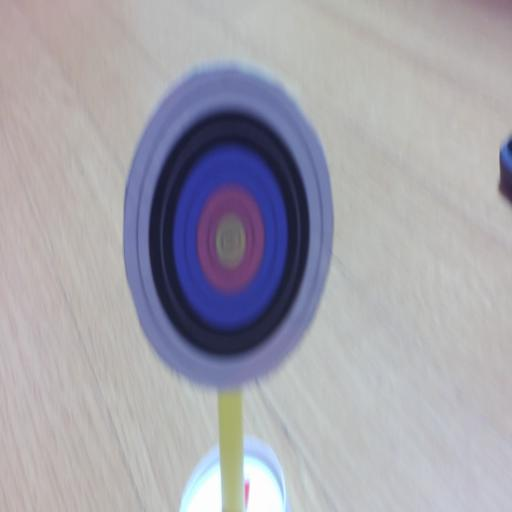target: (123, 69, 332, 388)
